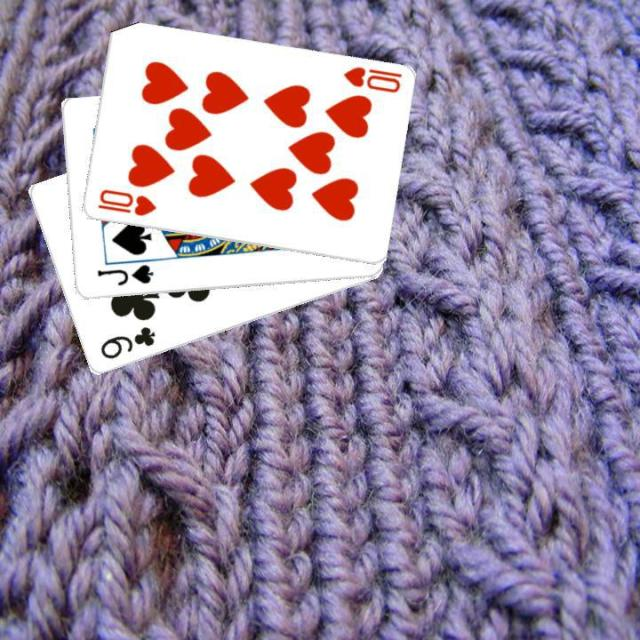10H: (338, 62, 402, 95), (94, 186, 158, 218)
9C: (96, 322, 157, 362)
JS: (93, 261, 155, 288)
